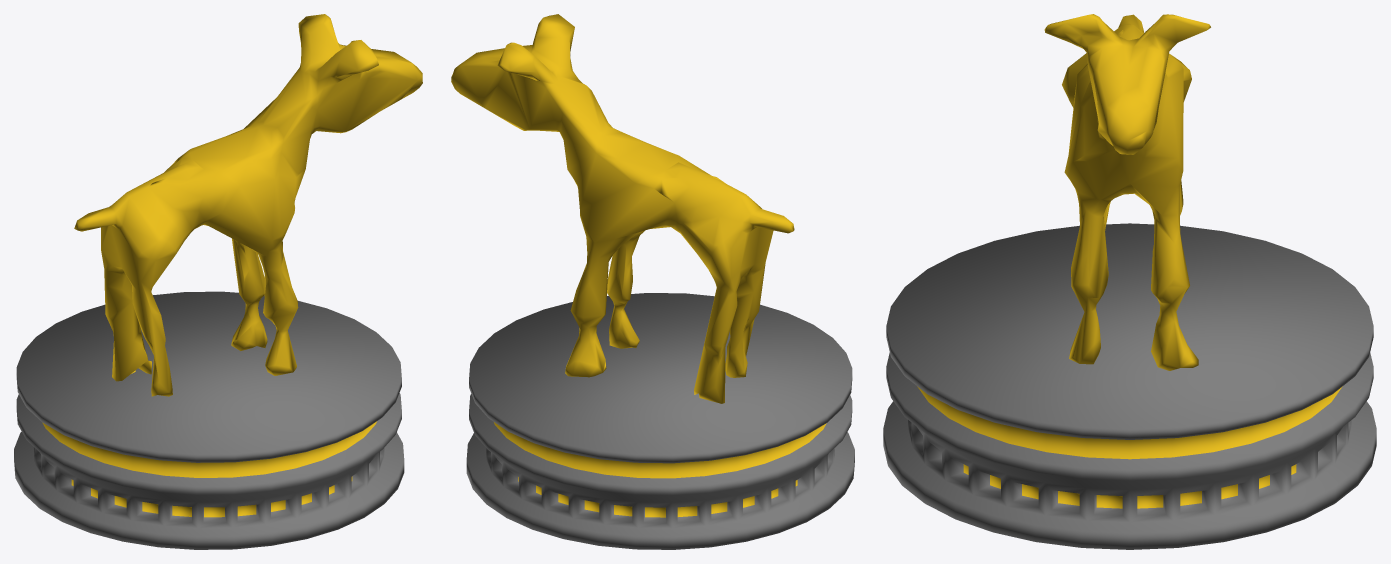
File: lamb_statue.glb
The picture shows the model from 3 angles, left to right: view 1: azimuth 30°, elevation 25°; view 2: azimuth 150°, elevation 25°; view 3: azimuth 270°, elevation 25°; orthographic projection. The views are drawn at different scales.
Parts seen in each view (by area): view 1: Lamb; view 2: Lamb; view 3: Lamb.
Part boxes in pixels (x1,y1,x2,y2): Lamb: [14, 14, 422, 549]; Lamb: [451, 14, 854, 549]; Lamb: [883, 14, 1376, 549].
Size of the model in its own units: 9.04 by 9.27 by 8.07.
